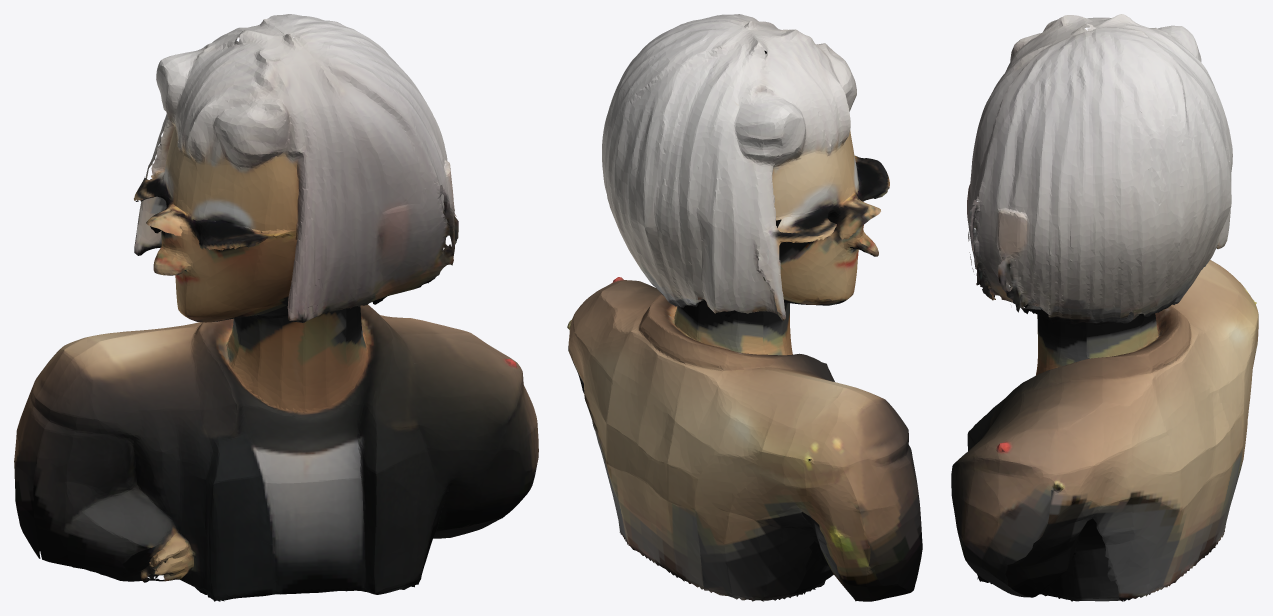
Rendered from rex.glb.
3 views of the same model, side by side, from view 1: azimuth 30°, elevation 25°; view 2: azimuth 150°, elevation 25°; view 3: azimuth 270°, elevation 25° (orthographic). The views are drawn at different scales.
Visible parts, largest first — view 1: world_1; view 2: world_1; view 3: world_1.
Boxes of the visible parts, <box> form: world_1: <box>14,14,538,601</box>; world_1: <box>567,14,922,601</box>; world_1: <box>951,14,1258,601</box>.
Bounding box in the file's own units: 0.597 × 0.7185 × 0.3829.
1 material, 1 textured.
